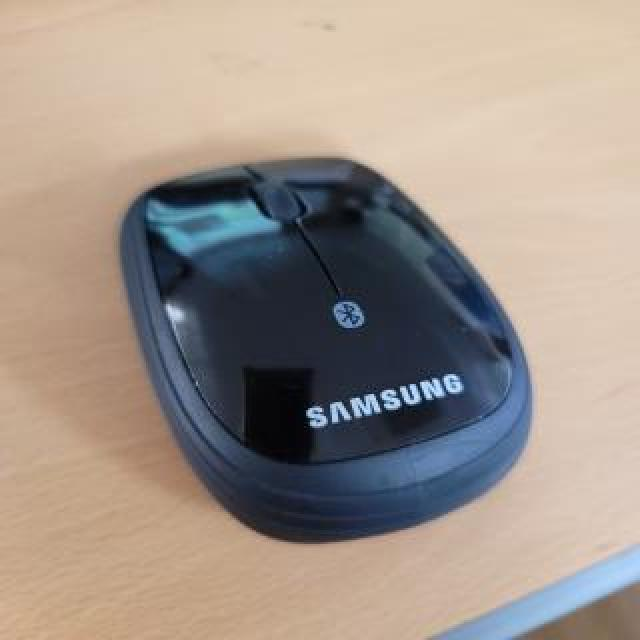mouse: (110, 118, 543, 565)
